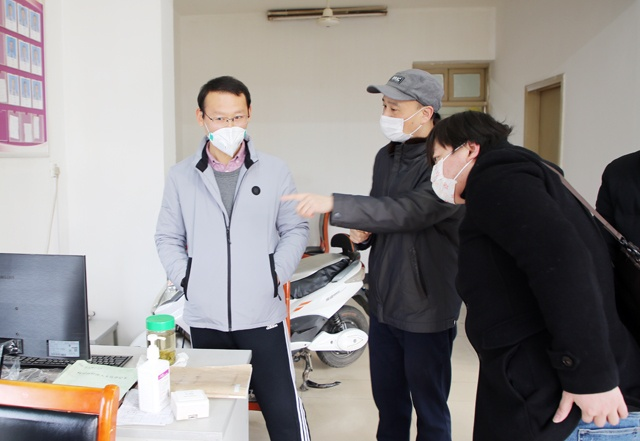correctlyWear: (428, 139, 478, 204), (195, 100, 251, 158), (377, 93, 433, 141)
